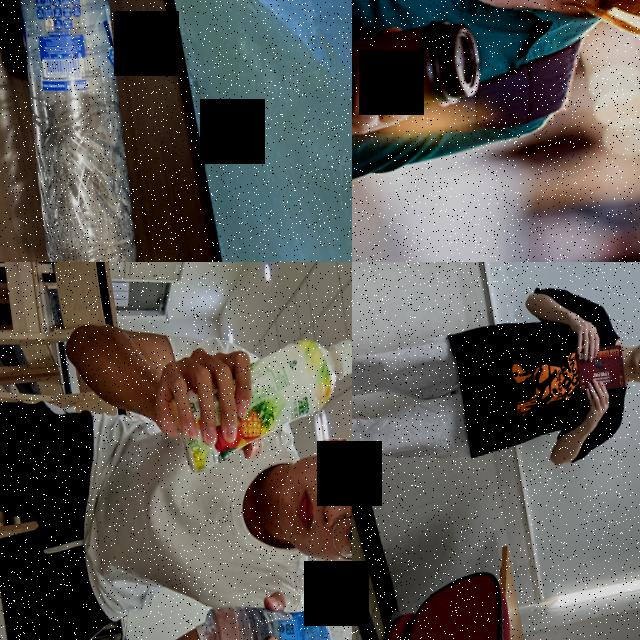bottle: (0, 0, 154, 262), (160, 327, 352, 477), (191, 579, 352, 640)
cup: (352, 18, 482, 131)
